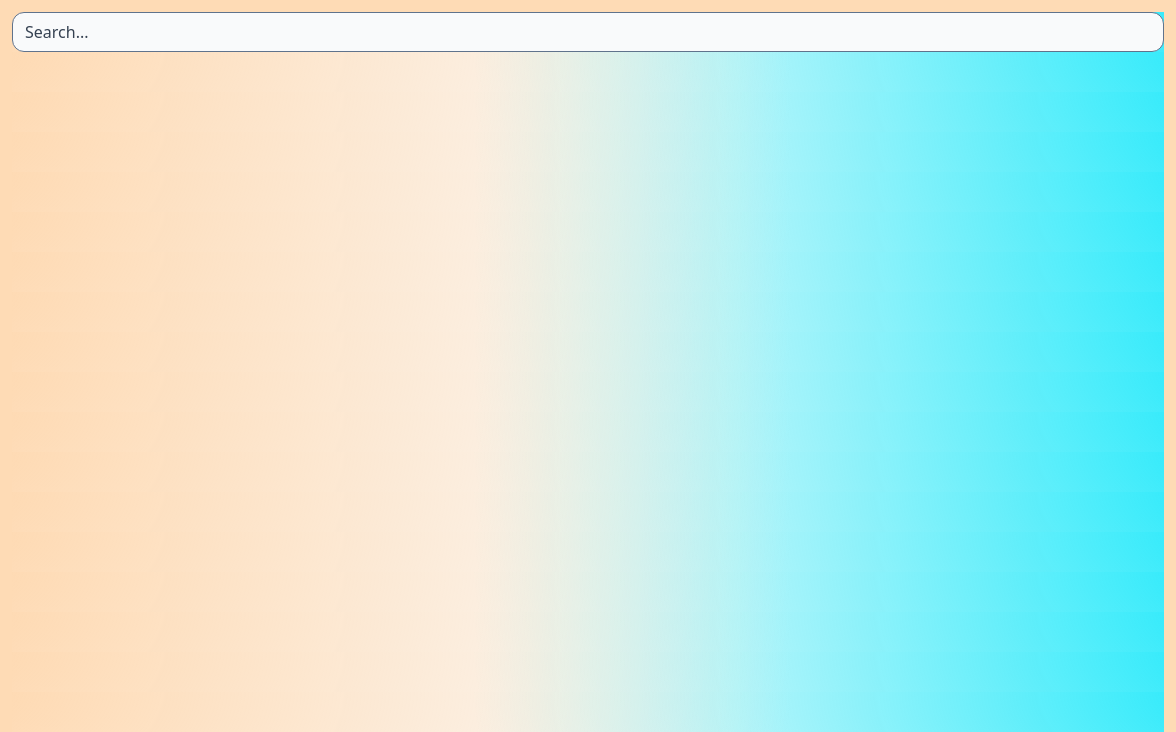
it: Combobox a11y › has no violations when nothing matches (D12)
Type "zzz" into the dropdown named "Country".
click(588, 32); type("zzz")  # box [12,12,1164,52]
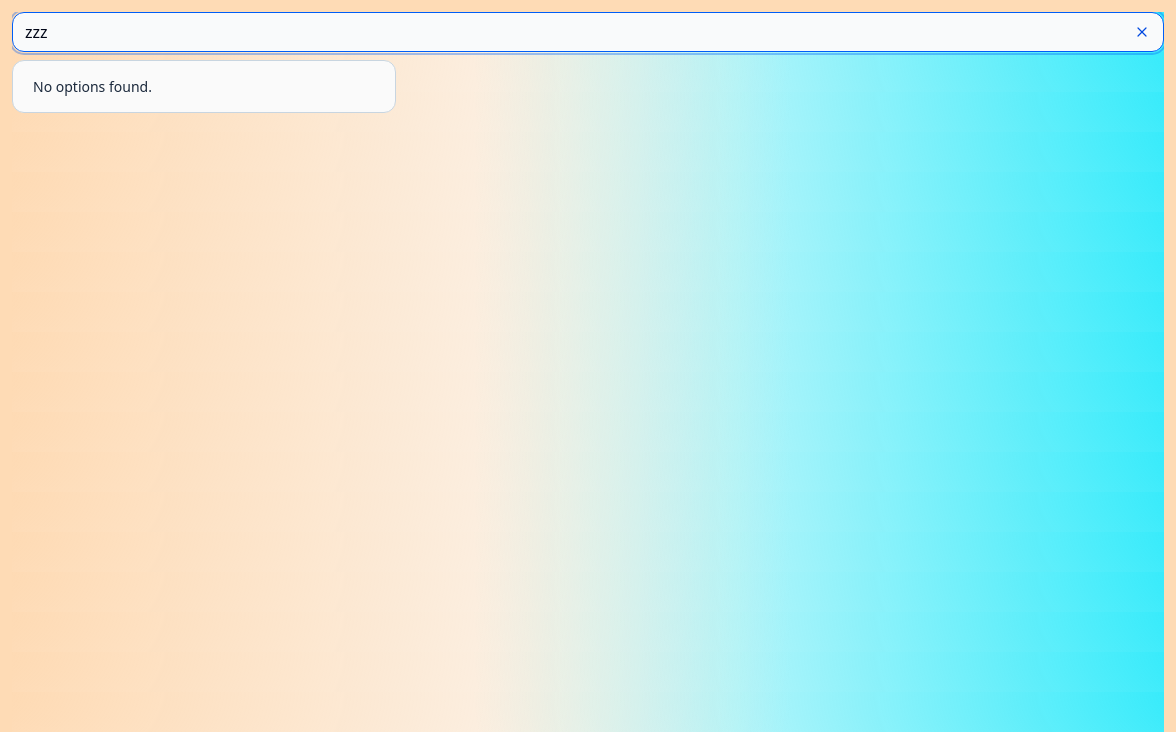
Check: the text "No options found." is shown, box [33,77,152,96]
